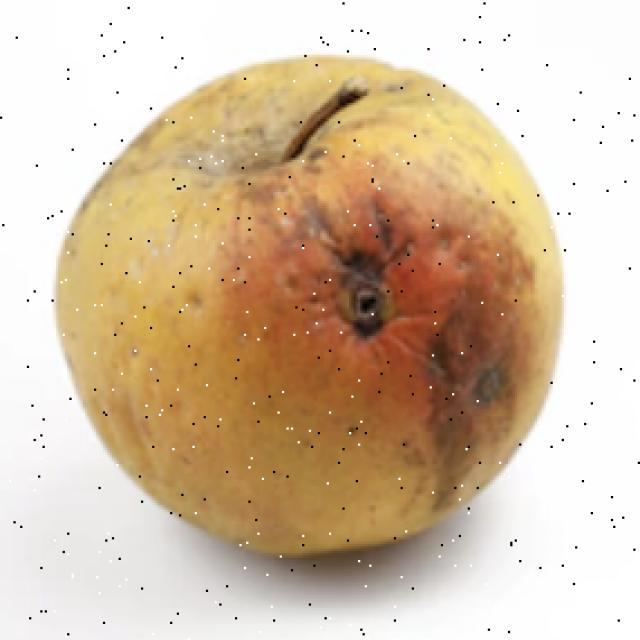Rotten: (50, 47, 568, 528)
